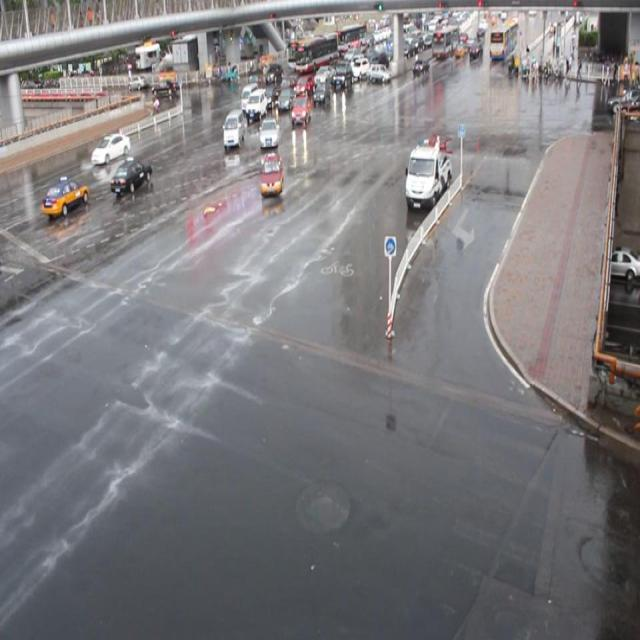bus: (404, 145, 452, 212)
car: (42, 176, 90, 215), (110, 157, 153, 191), (91, 132, 131, 164), (260, 152, 284, 194), (259, 118, 280, 149), (290, 95, 312, 124), (256, 89, 278, 112), (290, 77, 311, 98), (276, 87, 296, 109), (312, 81, 332, 103)
truck: (222, 109, 245, 147), (243, 90, 265, 122), (240, 82, 259, 109)
